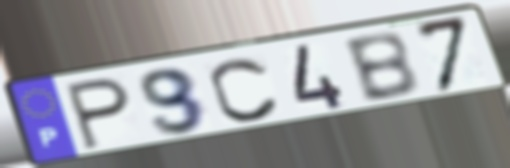4: (291, 42, 347, 113)
7: (414, 13, 474, 98)
9: (135, 65, 212, 138)
B: (339, 29, 423, 106)
C: (206, 55, 283, 124)
P: (63, 75, 134, 154)
